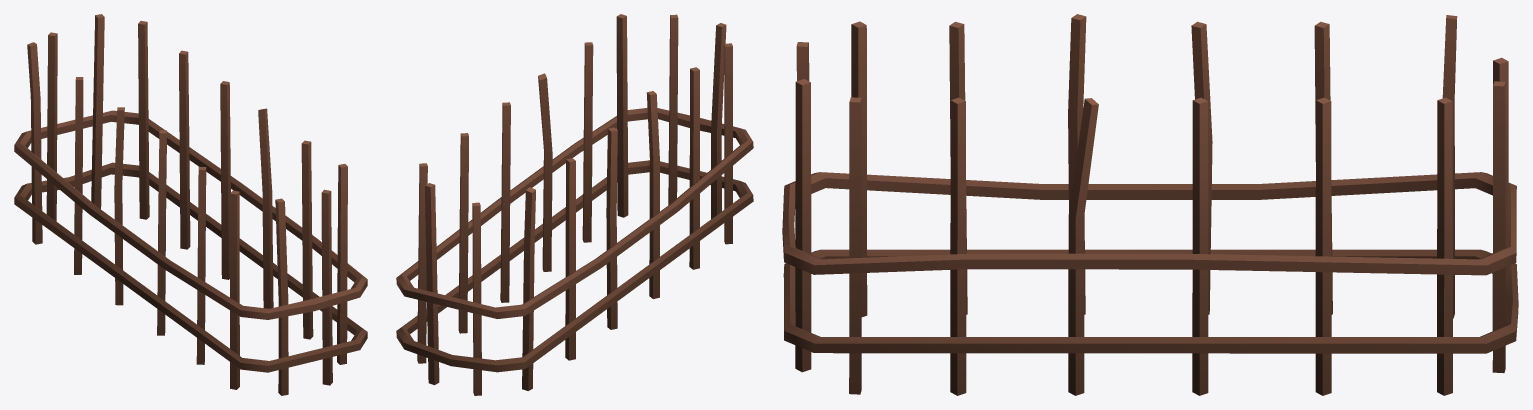
File: RreinforcingBars_A_2.obj
3 renders of one model, left to right at view 1: azimuth 30°, elevation 25°; view 2: azimuth 150°, elevation 25°; view 3: azimuth 270°, elevation 25°, orthographic. The views are drawn at different scales.
Visible parts, largest first — view 1: RreinforcingBars_A_2; view 2: RreinforcingBars_A_2; view 3: RreinforcingBars_A_2.
Part boxes in pixels (<box>): RreinforcingBars_A_2: <box>14,14,367,395</box>; RreinforcingBars_A_2: <box>396,14,753,395</box>; RreinforcingBars_A_2: <box>782,14,1518,395</box>.
Size of the model in its own units: 0.4253 by 0.6427 by 1.43.
